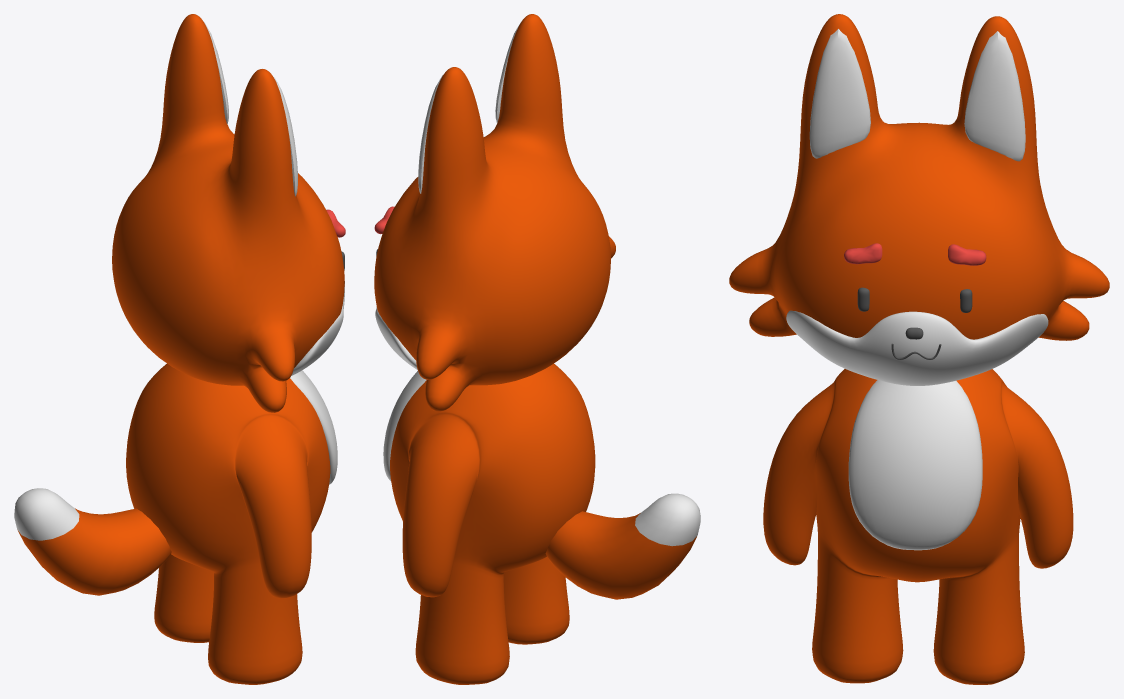
The model's file is raposa.glb.
The picture shows the model from 3 angles, left to right: view 1: azimuth 30°, elevation 25°; view 2: azimuth 150°, elevation 25°; view 3: azimuth 270°, elevation 25°; orthographic projection. The views are drawn at different scales.
Visible parts, largest first — view 1: Cube, Cube.001, Cube.008, Cube.004, Cube.003, Cube.002; view 2: Cube, Cube.001, Cube.008, Cube.004, Cube.003, Cube.002; view 3: Cube, Cube.001, Cube.004, Cube.002, Cube.003, Cube.006, Cube.005.
Boxes of the visible parts, x1,y1,x2,y2 form: Cube: (112,14,344,412); Cube.001: (126,363,330,684); Cube.008: (14,488,171,595); Cube.004: (290,370,337,484); Cube.003: (204,22,297,196); Cube.002: (291,284,344,375); Cube: (374,14,615,411); Cube.001: (390,363,595,684); Cube.008: (545,493,700,599); Cube.004: (383,371,426,480); Cube.003: (418,23,520,193); Cube.002: (375,307,417,369); Cube: (729,14,1109,340); Cube.001: (763,369,1073,684); Cube.004: (848,380,982,550); Cube.002: (786,310,1048,385); Cube.003: (809,29,1025,161); Cube.006: (844,243,986,265); Cube.005: (857,287,972,312).
Size of the model in its own units: 1.11 by 2.04 by 1.08.
